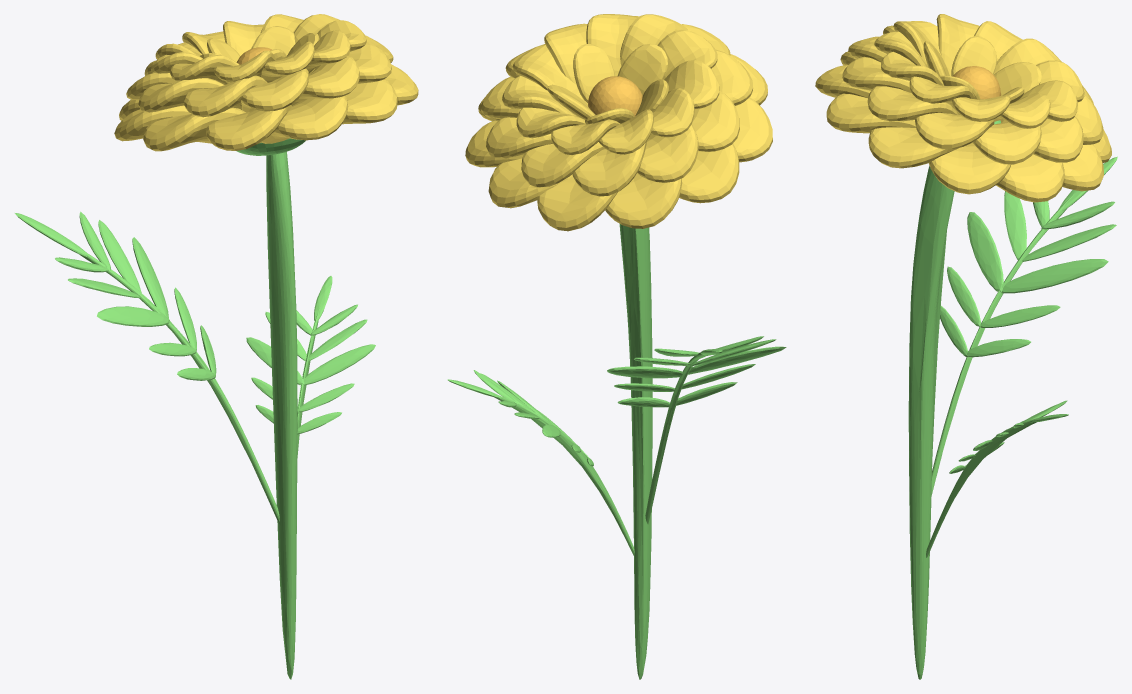
The model's file is Affection_Marigold.glb.
3 renders of one model, left to right at view 1: azimuth 30°, elevation 25°; view 2: azimuth 150°, elevation 25°; view 3: azimuth 270°, elevation 25°, orthographic. The views are drawn at different scales.
Visible parts, largest first — view 1: Cylinder.001; view 2: Cylinder.001; view 3: Cylinder.001.
Part boxes in pixels (bbox=[...]): Cylinder.001: bbox=[15, 14, 418, 679]; Cylinder.001: bbox=[447, 14, 786, 679]; Cylinder.001: bbox=[815, 14, 1117, 679].
Bounding box in the file's own units: 6.95 × 13.8 × 5.9.
